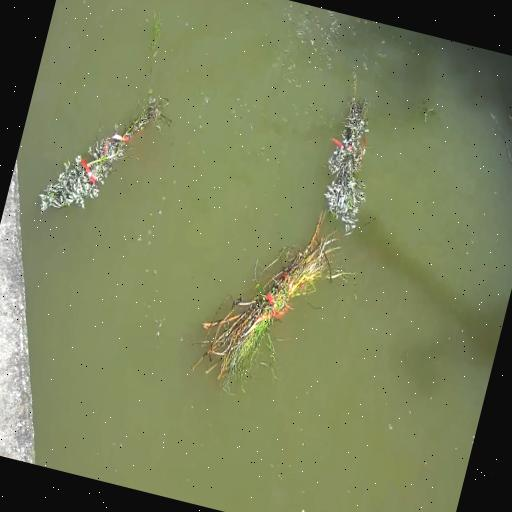twig: (192, 214, 350, 384), (39, 98, 166, 213), (325, 96, 369, 234), (336, 143, 351, 181), (346, 128, 352, 140)
